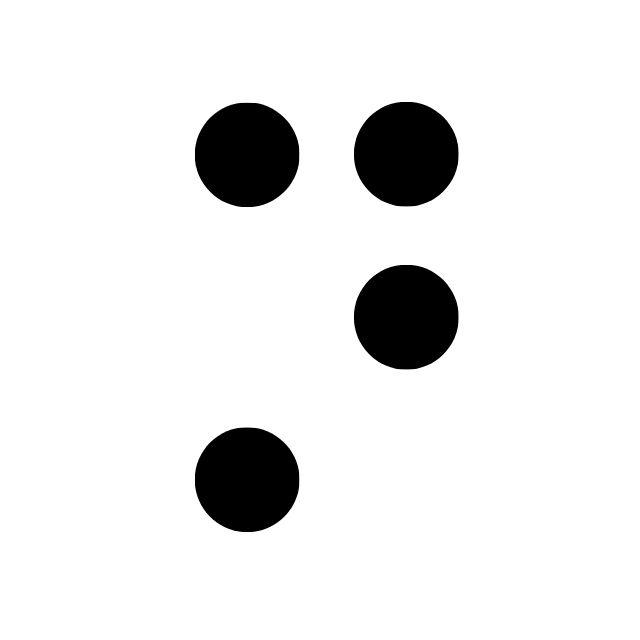ngayon: (195, 103, 460, 536)
